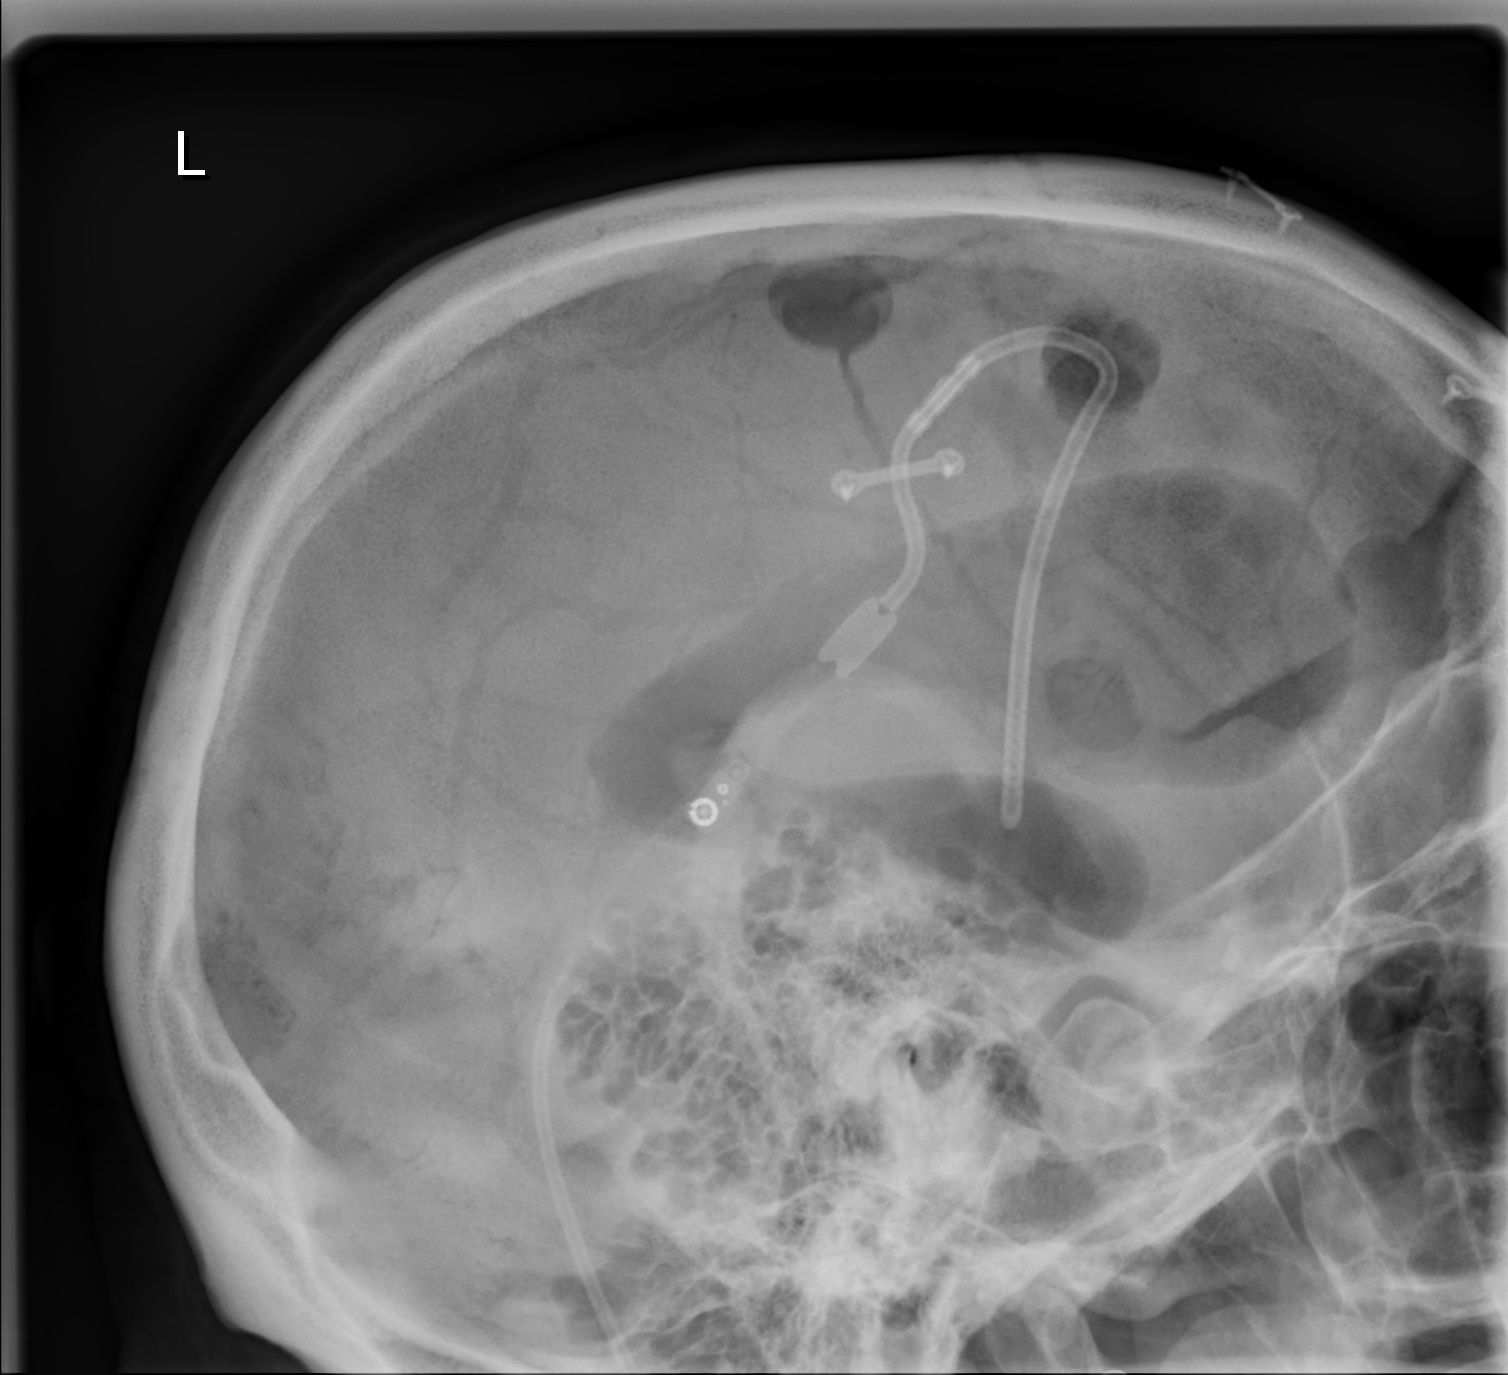Codman Hakim: (680, 756, 740, 848)
